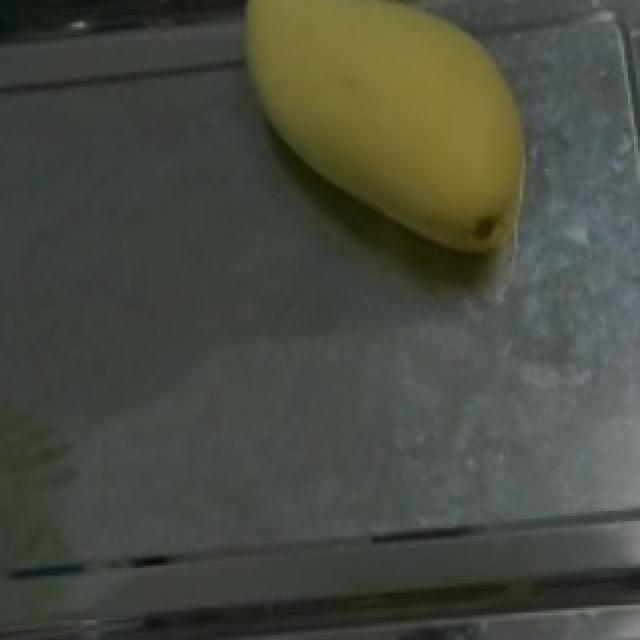fruit: (214, 0, 568, 278)
